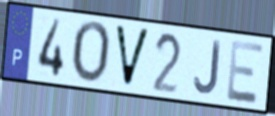2: (150, 30, 185, 95)
4: (35, 15, 66, 79)
E: (225, 38, 267, 107)
J: (192, 39, 222, 97)
O: (71, 19, 113, 86)
V: (113, 22, 152, 90)
